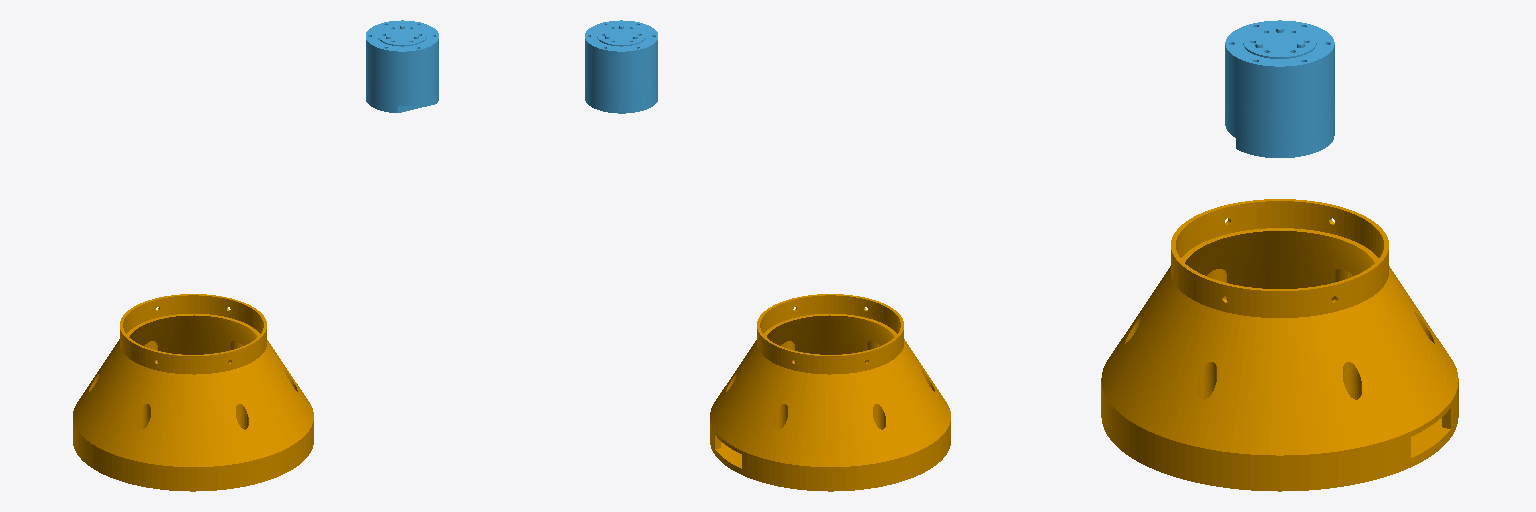
URDF robot description (live_edit_fixture):
<?xml version="1.0"?>
<robot name="live_edit_fixture">
  <link name="base_link">
    <visual>
      <origin xyz="0 0 0" rpy="0 0 0"/>
      <geometry>
        <mesh filename="../meshes/Base-1.stl" scale="0.001 0.001 0.001"/>
      </geometry>
    </visual>
  </link>
  <link name="tool_link">
    <visual>
      <origin xyz="0.10 0 0.12" rpy="0 0 0"/>
      <geometry>
        <mesh filename="../meshes/Motor2.stl" scale="0.001 0.001 0.001"/>
      </geometry>
    </visual>
  </link>
  <joint name="tool_fixed" type="fixed">
    <origin xyz="0.08 0 0.10" rpy="0 0 0"/>
    <parent link="base_link"/>
    <child link="tool_link"/>
  </joint>
</robot>

--- Render facts (derived) ---
The picture shows the robot from 3 angles, left to right: view 1: azimuth 30°, elevation 25°; view 2: azimuth 150°, elevation 25°; view 3: azimuth 270°, elevation 25°; orthographic projection.
Model live_edit_fixture with 2 links and 1 joints (1 fixed), rooted at base_link, posed every joint at zero.
Visible links, largest first — view 1: base_link, tool_link; view 2: base_link, tool_link; view 3: base_link, tool_link.
Link boxes in pixels (x1,y1,x2,y2): base_link: (73, 294, 313, 491); tool_link: (366, 20, 438, 112); base_link: (710, 294, 950, 491); tool_link: (585, 20, 657, 113); base_link: (1101, 199, 1458, 491); tool_link: (1225, 20, 1334, 157).
Bounding box of the posed robot: 0.2975 × 0.18 × 0.294 m (x, y, z).
Meshes: 2 distinct files referenced, 2 mesh visuals loaded (2 binary STL).
